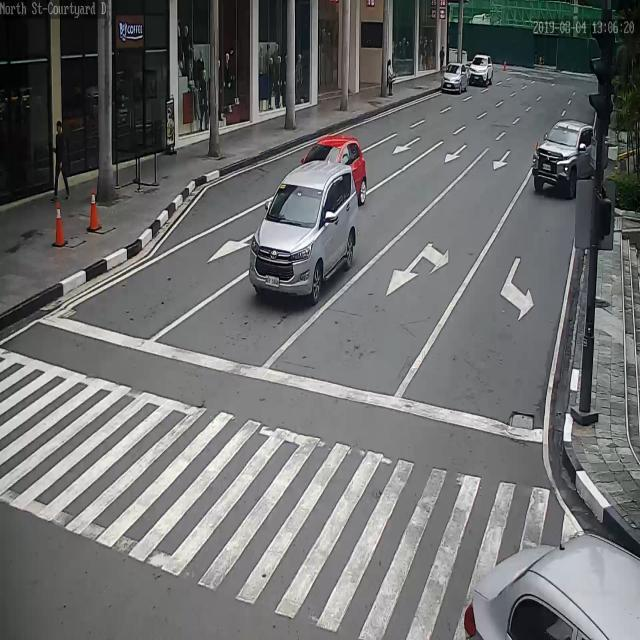car: (457, 531, 640, 637), (250, 161, 358, 298), (530, 120, 602, 195), (303, 133, 367, 203), (442, 64, 471, 93), (469, 58, 495, 87)
